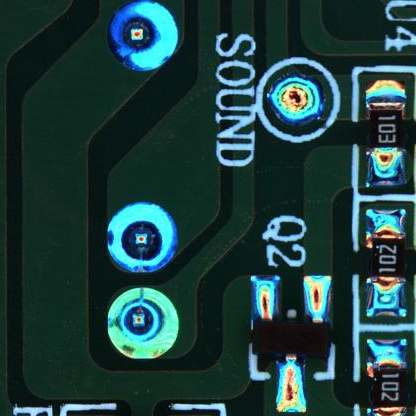spot: (95, 193, 189, 282), (99, 283, 190, 364), (263, 72, 329, 135)
